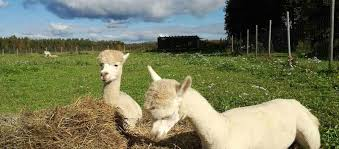alpaca: (142, 64, 322, 149), (96, 48, 142, 131)
